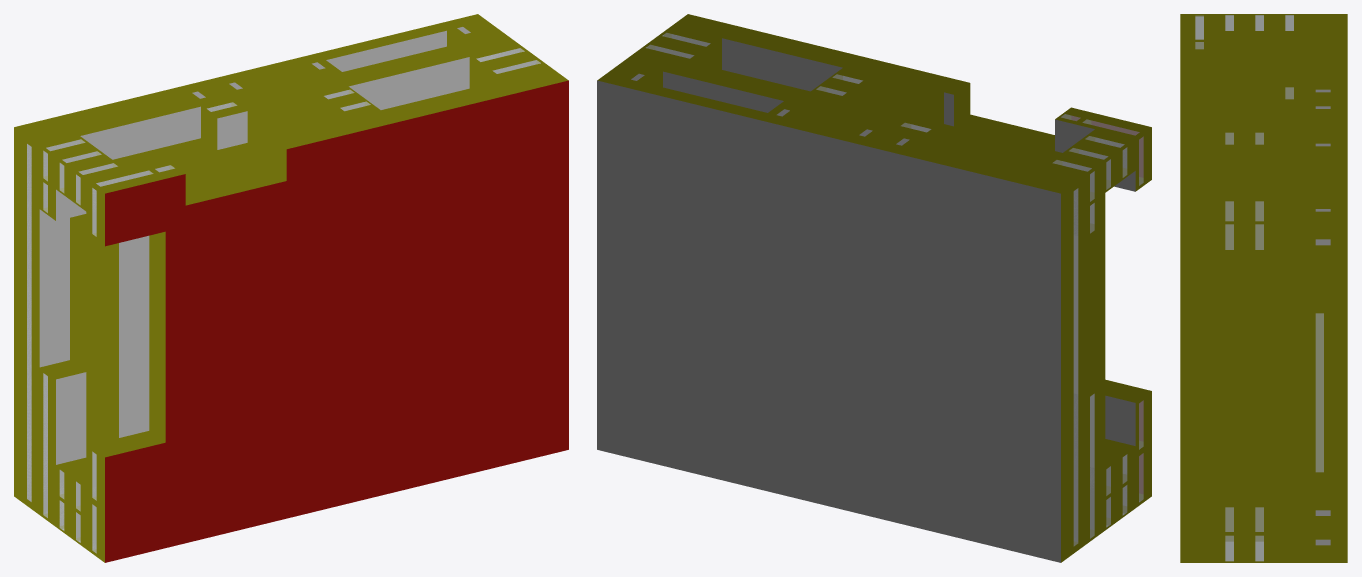
File: idf.obj
3 renders of one model, left to right at view 1: azimuth 30°, elevation 25°; view 2: azimuth 150°, elevation 25°; view 3: azimuth 270°, elevation 25°, orthographic. The views are drawn at different scales.
Size of the model in its own units: 70.1 by 53.34 by 23.78.
